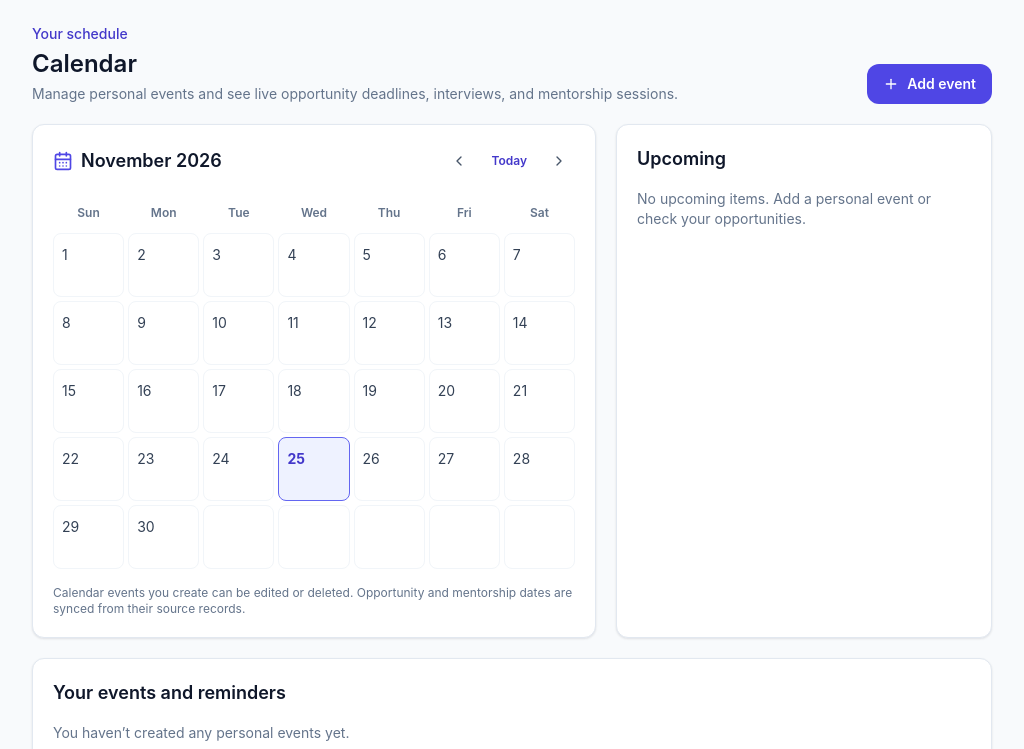
Test: Calendar › creates a personal event through the student-owned calendar service
Click the button "Add event" at point(930, 84), box [867,64,992,104]
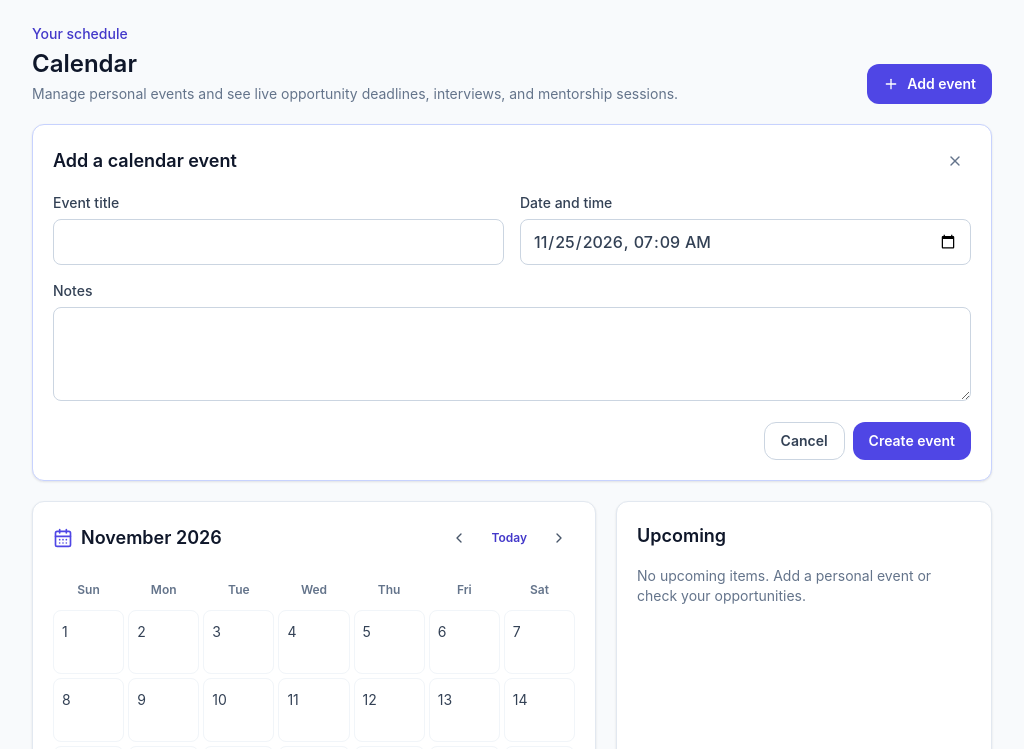
Type "Portfolio review" into the field labelled "Event title" at point(278, 242), box [53,219,504,265]
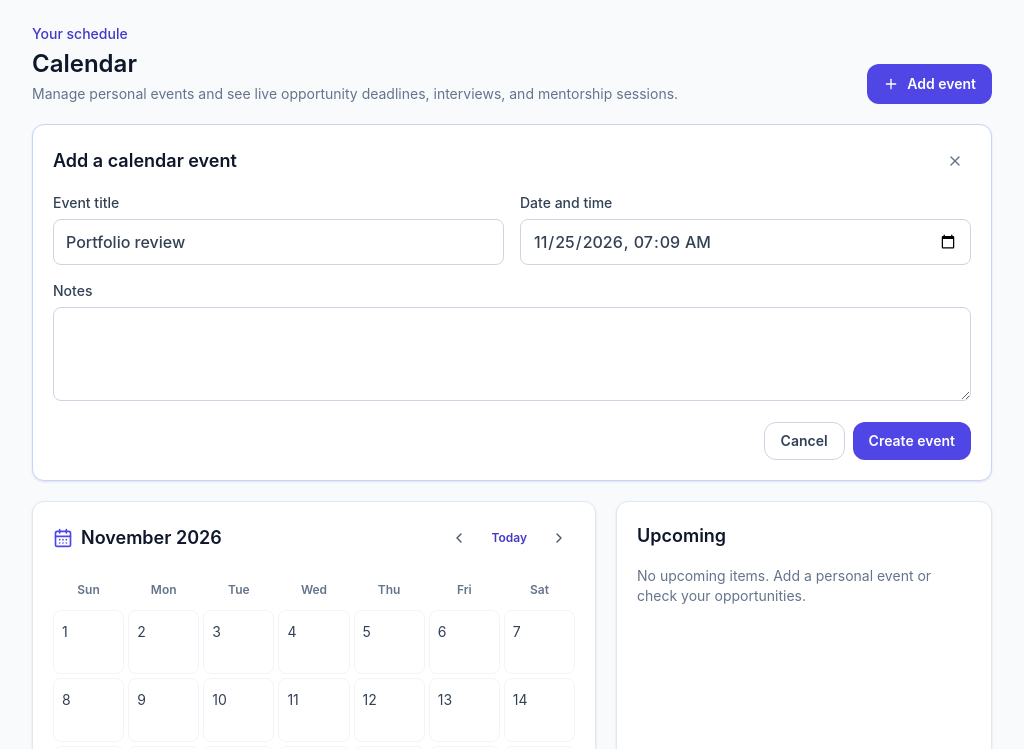
Replace the text in the field labelled "Date and time" with "2026-02-14T10:30" at point(746, 242), box [520,219,971,265]
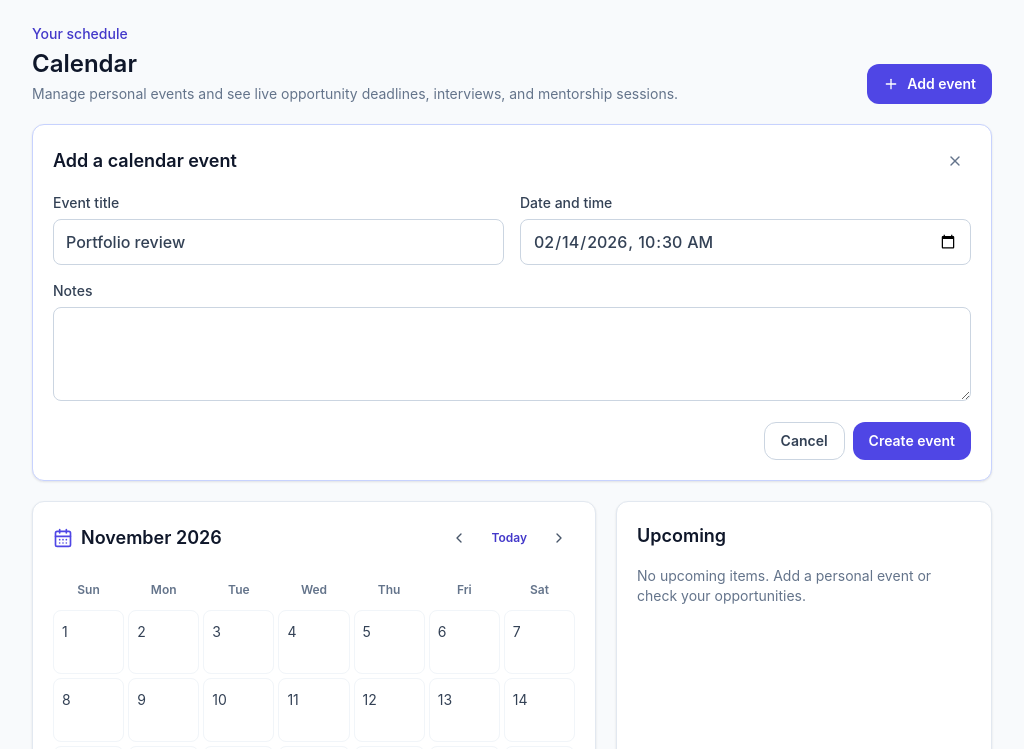
Click the button "Create event" at point(912, 441), box [853,422,971,460]
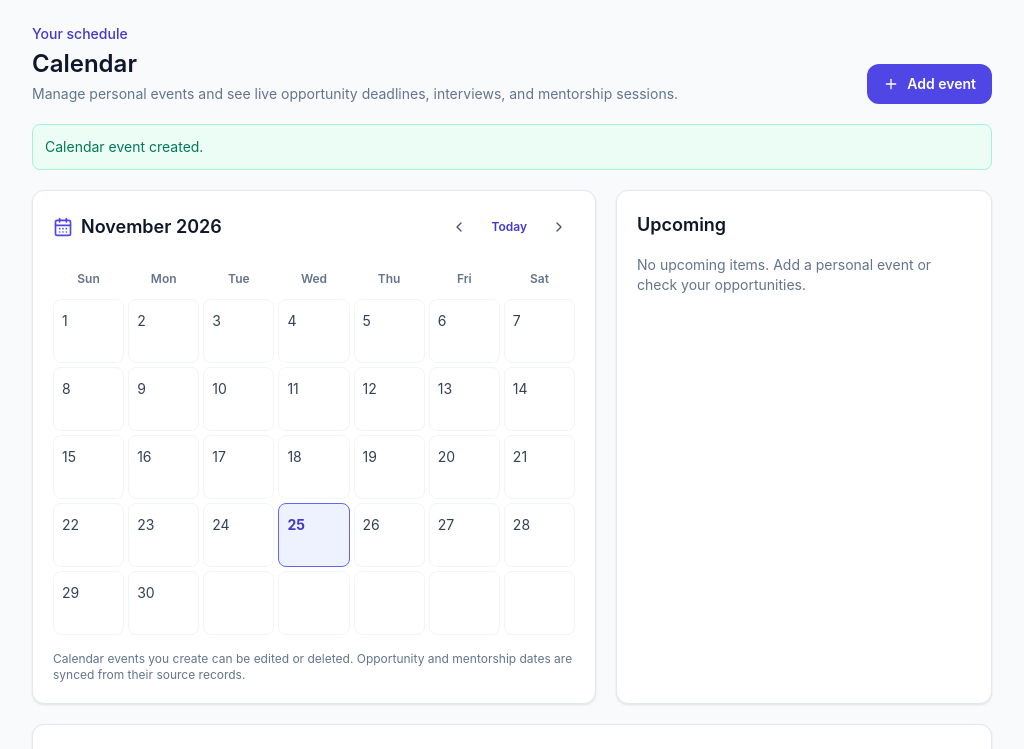
Now the message reads "Calendar event created.", box [45,138,203,155]
